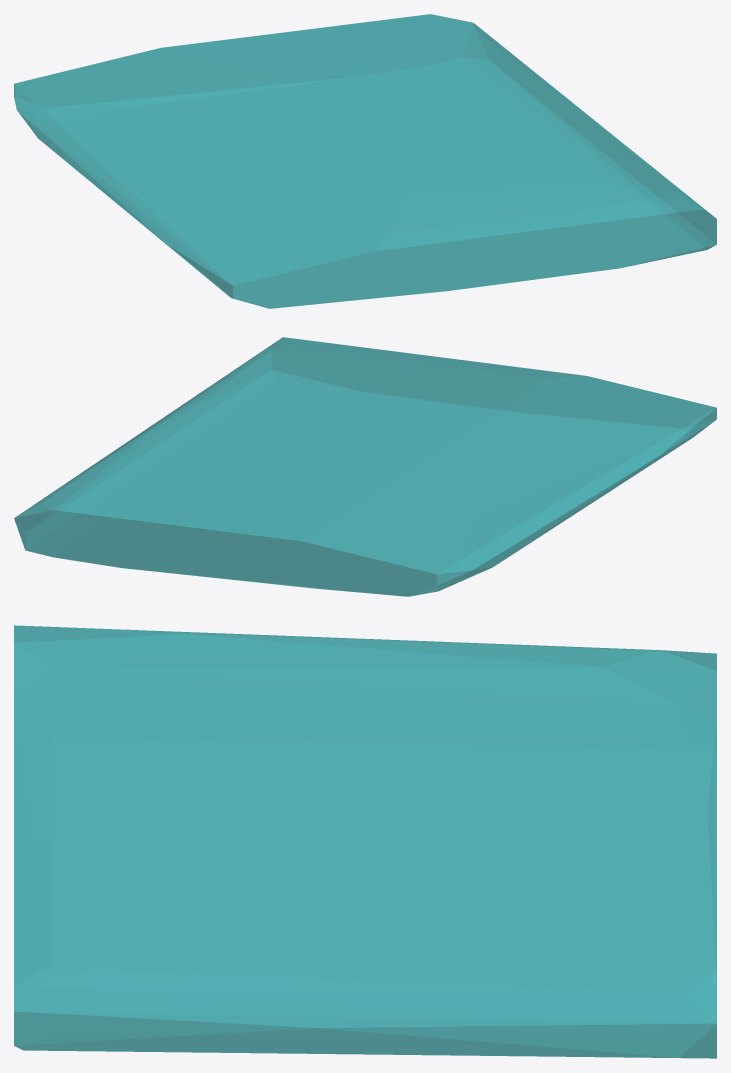
3 renders of one model, top to bottom at view 1: azimuth 30°, elevation 25°; view 2: azimuth 150°, elevation 25°; view 3: azimuth 270°, elevation 25°, orthographic. The views are drawn at different scales.
Parts seen in each view (by area): view 1: Shape_IndexedFaceSet.026_Shape_IndexedFaceSet.9029; view 2: Shape_IndexedFaceSet.026_Shape_IndexedFaceSet.9029; view 3: Shape_IndexedFaceSet.026_Shape_IndexedFaceSet.9029.
Boxes of the visible parts, x1,y1,x2,y2 form: Shape_IndexedFaceSet.026_Shape_IndexedFaceSet.9029: [14, 14, 716, 308]; Shape_IndexedFaceSet.026_Shape_IndexedFaceSet.9029: [14, 337, 716, 596]; Shape_IndexedFaceSet.026_Shape_IndexedFaceSet.9029: [14, 625, 716, 1058].
Bounding box in the file's own units: 0.0327 × 0.00518 × 0.0295.
